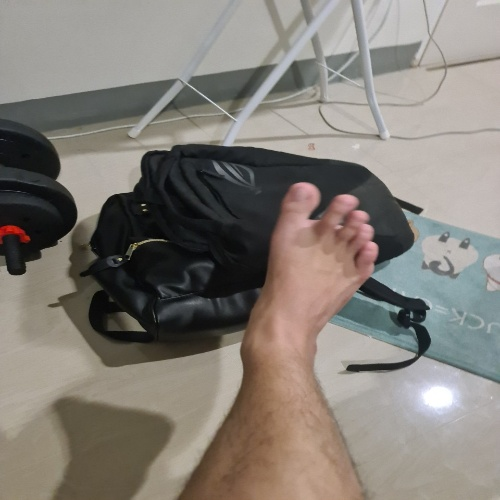3: (281, 182, 320, 221)
Top_Foot: (245, 182, 377, 380)
